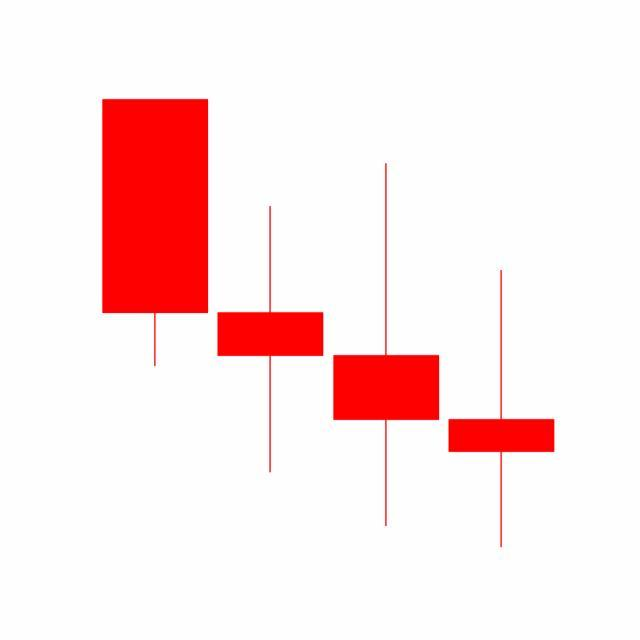Spinning Top: (444, 268, 560, 552)
